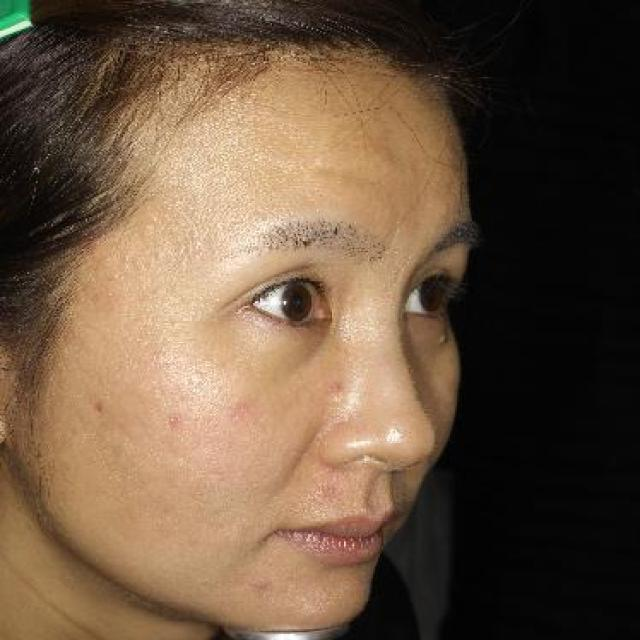darkspot: (248, 577, 277, 595), (159, 409, 185, 429), (91, 397, 111, 415), (331, 375, 348, 394)
nodules: (431, 329, 452, 349), (375, 492, 409, 494)
